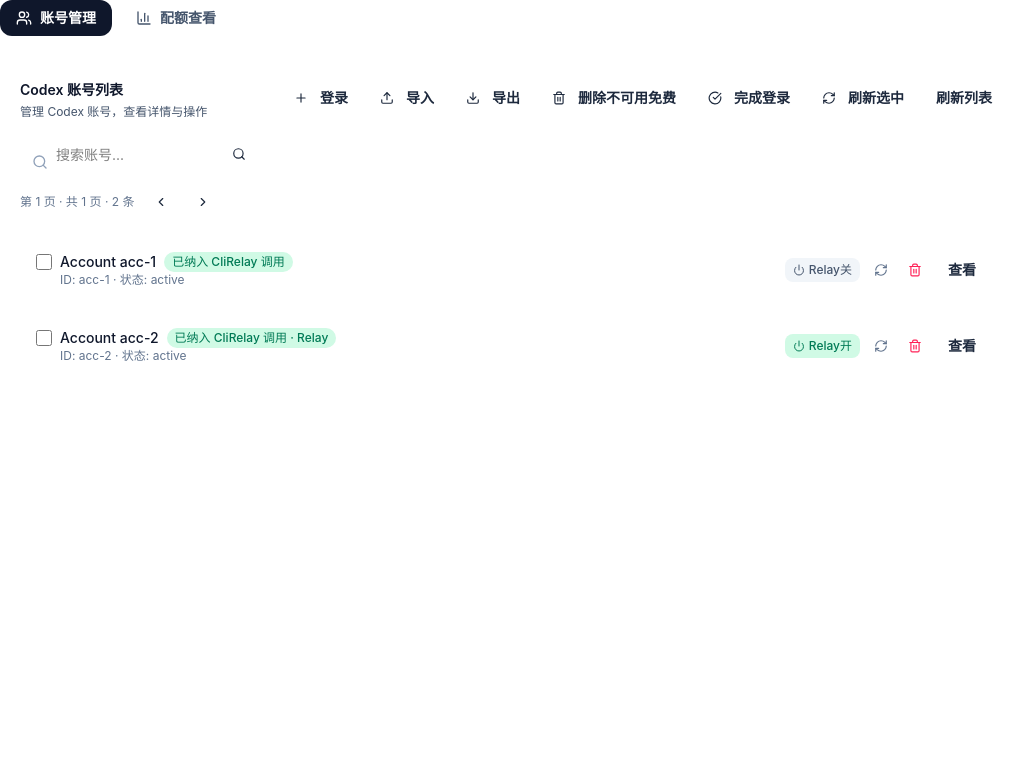
Test: CodexManagerPage action flow wiring › clicking 查看 button opens account detail drawer on first click
Expected: the text "Account acc-1" is shown, [60, 252, 156, 272]
Click the button "查看" in the row of "Account acc-1" at {"x": 962, "y": 270}, box [936, 252, 988, 288]
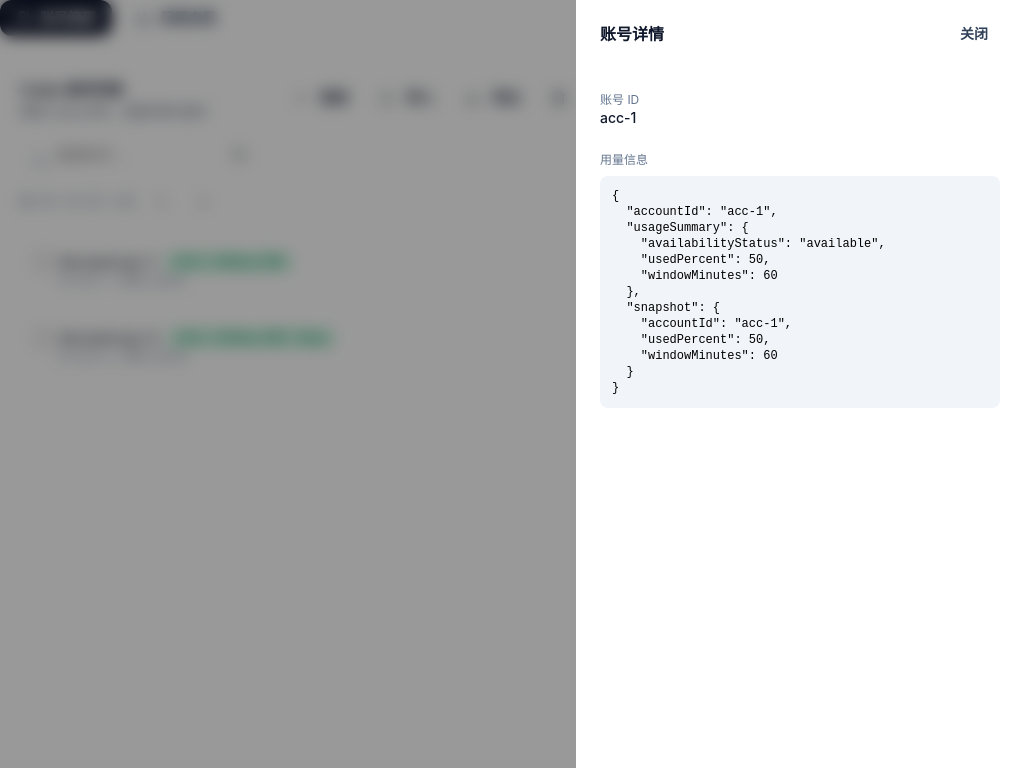
Result: the element with test id "codex-account-detail-drawer" is shown
